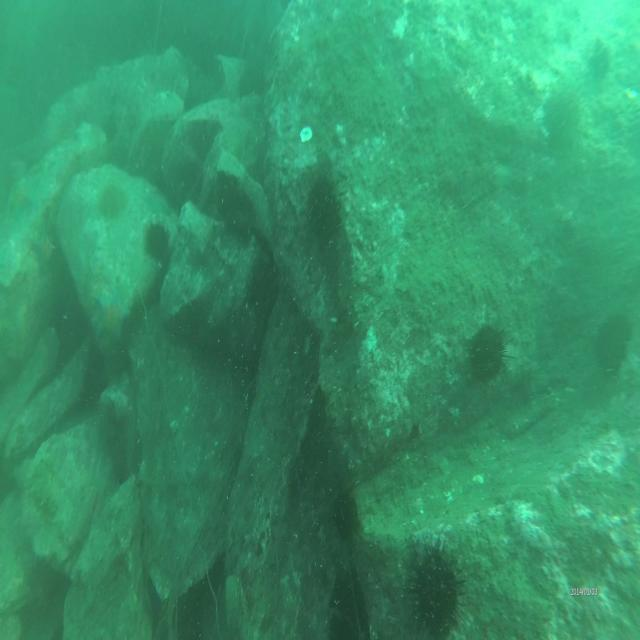echinus: (405, 535, 467, 638), (466, 317, 514, 388), (306, 169, 342, 243), (594, 307, 632, 376), (331, 489, 359, 536), (145, 220, 170, 260)
starfish: (92, 285, 134, 345)
